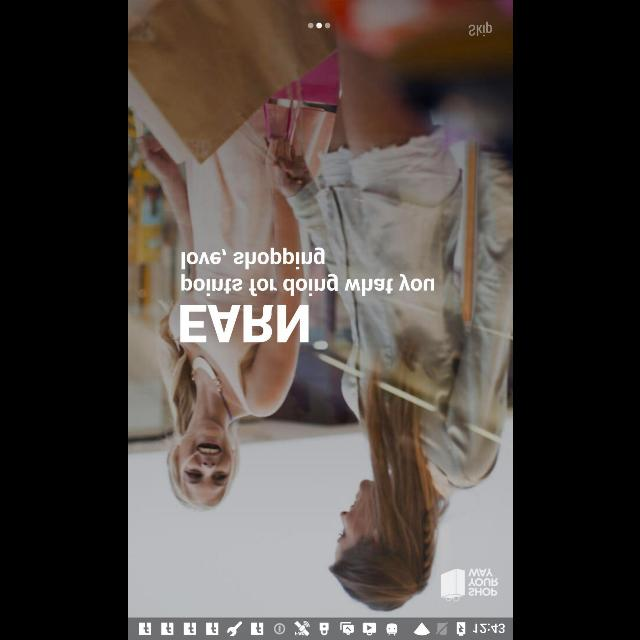backgroundimage: (128, 0, 512, 618)
image: (438, 568, 498, 602)
pageindicator: (308, 23, 330, 29)
text: (180, 246, 436, 296), (180, 304, 308, 344), (468, 22, 492, 36)
uppertaskbar: (128, 617, 512, 639)
